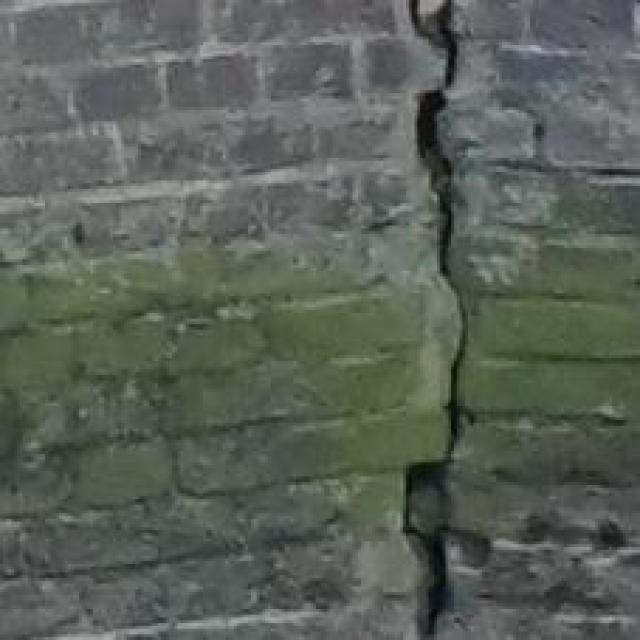Crack: (349, 0, 562, 640)
